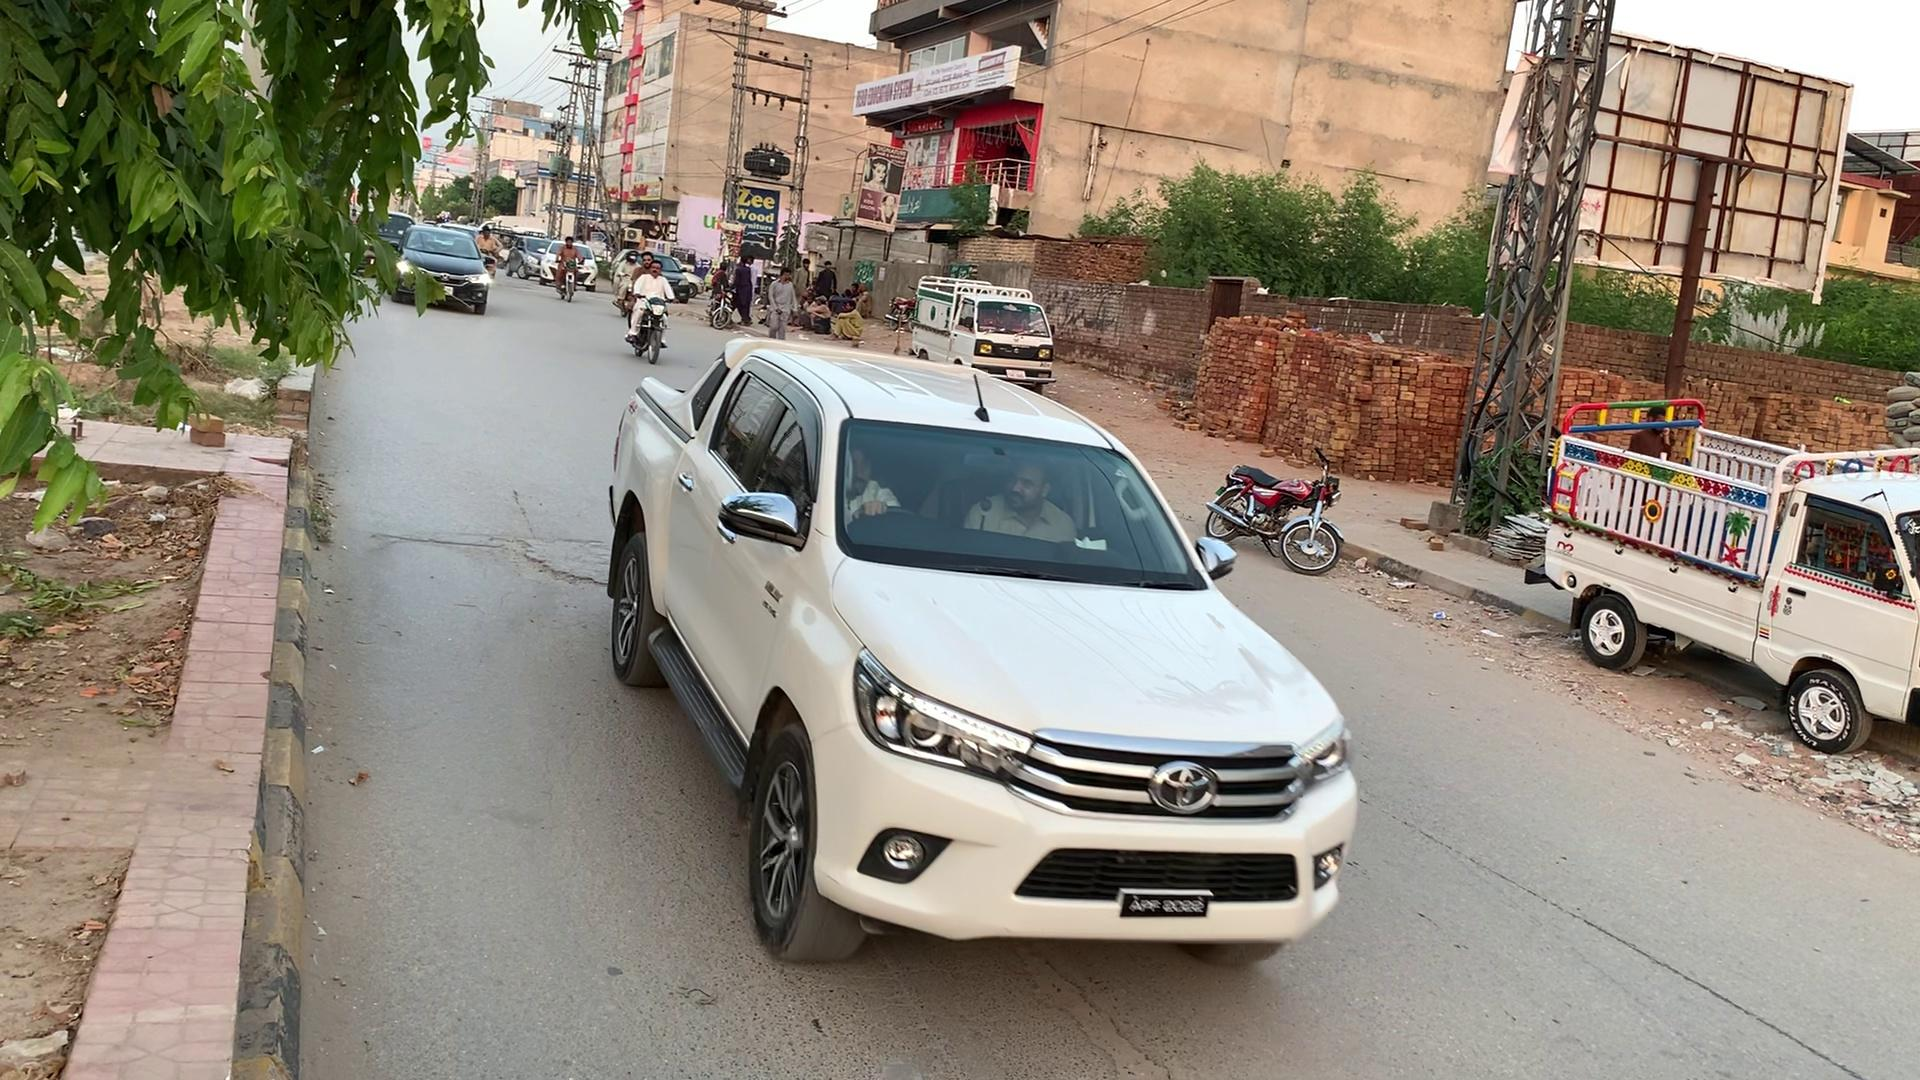windshield: (827, 406, 1224, 589)
